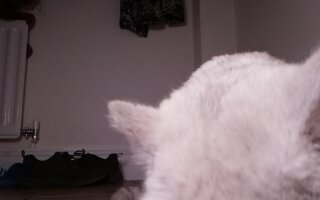bad: (107, 44, 319, 199)
